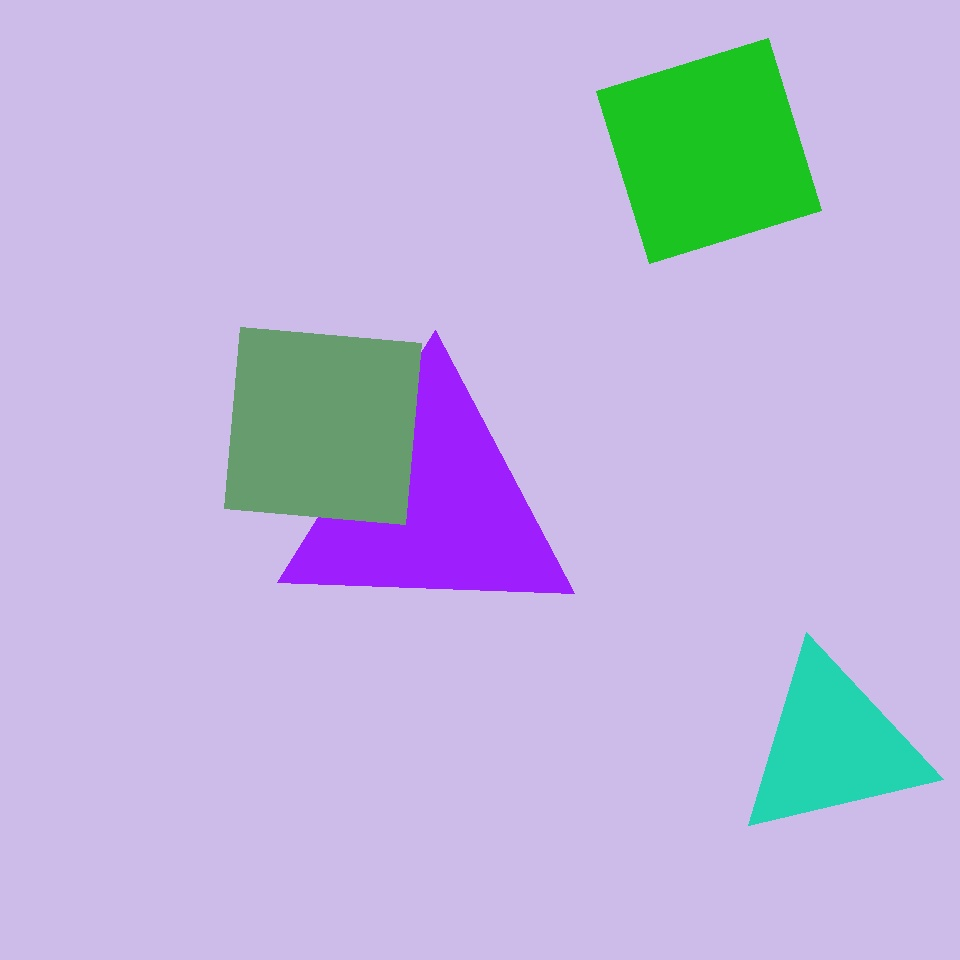circle: (281, 371, 578, 634), (285, 524, 556, 785), (736, 650, 930, 843), (89, 377, 210, 498)
square: (596, 38, 822, 264), (225, 328, 422, 524)
